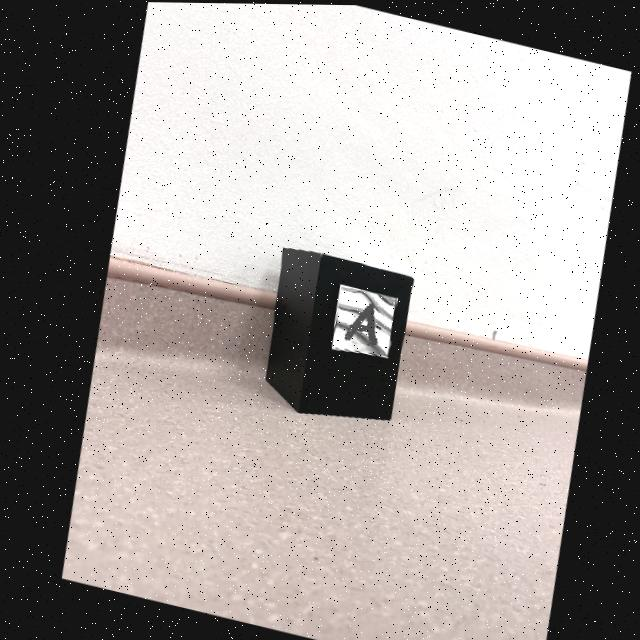A: (339, 302, 370, 343)
